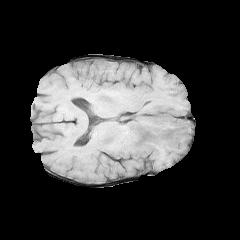glioma: (125, 104, 193, 150)
